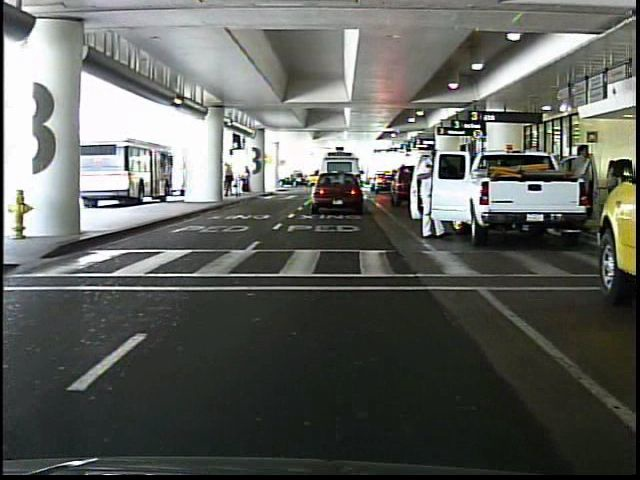person: (414, 143, 450, 242), (564, 140, 599, 224), (223, 160, 236, 198), (240, 164, 255, 195)
